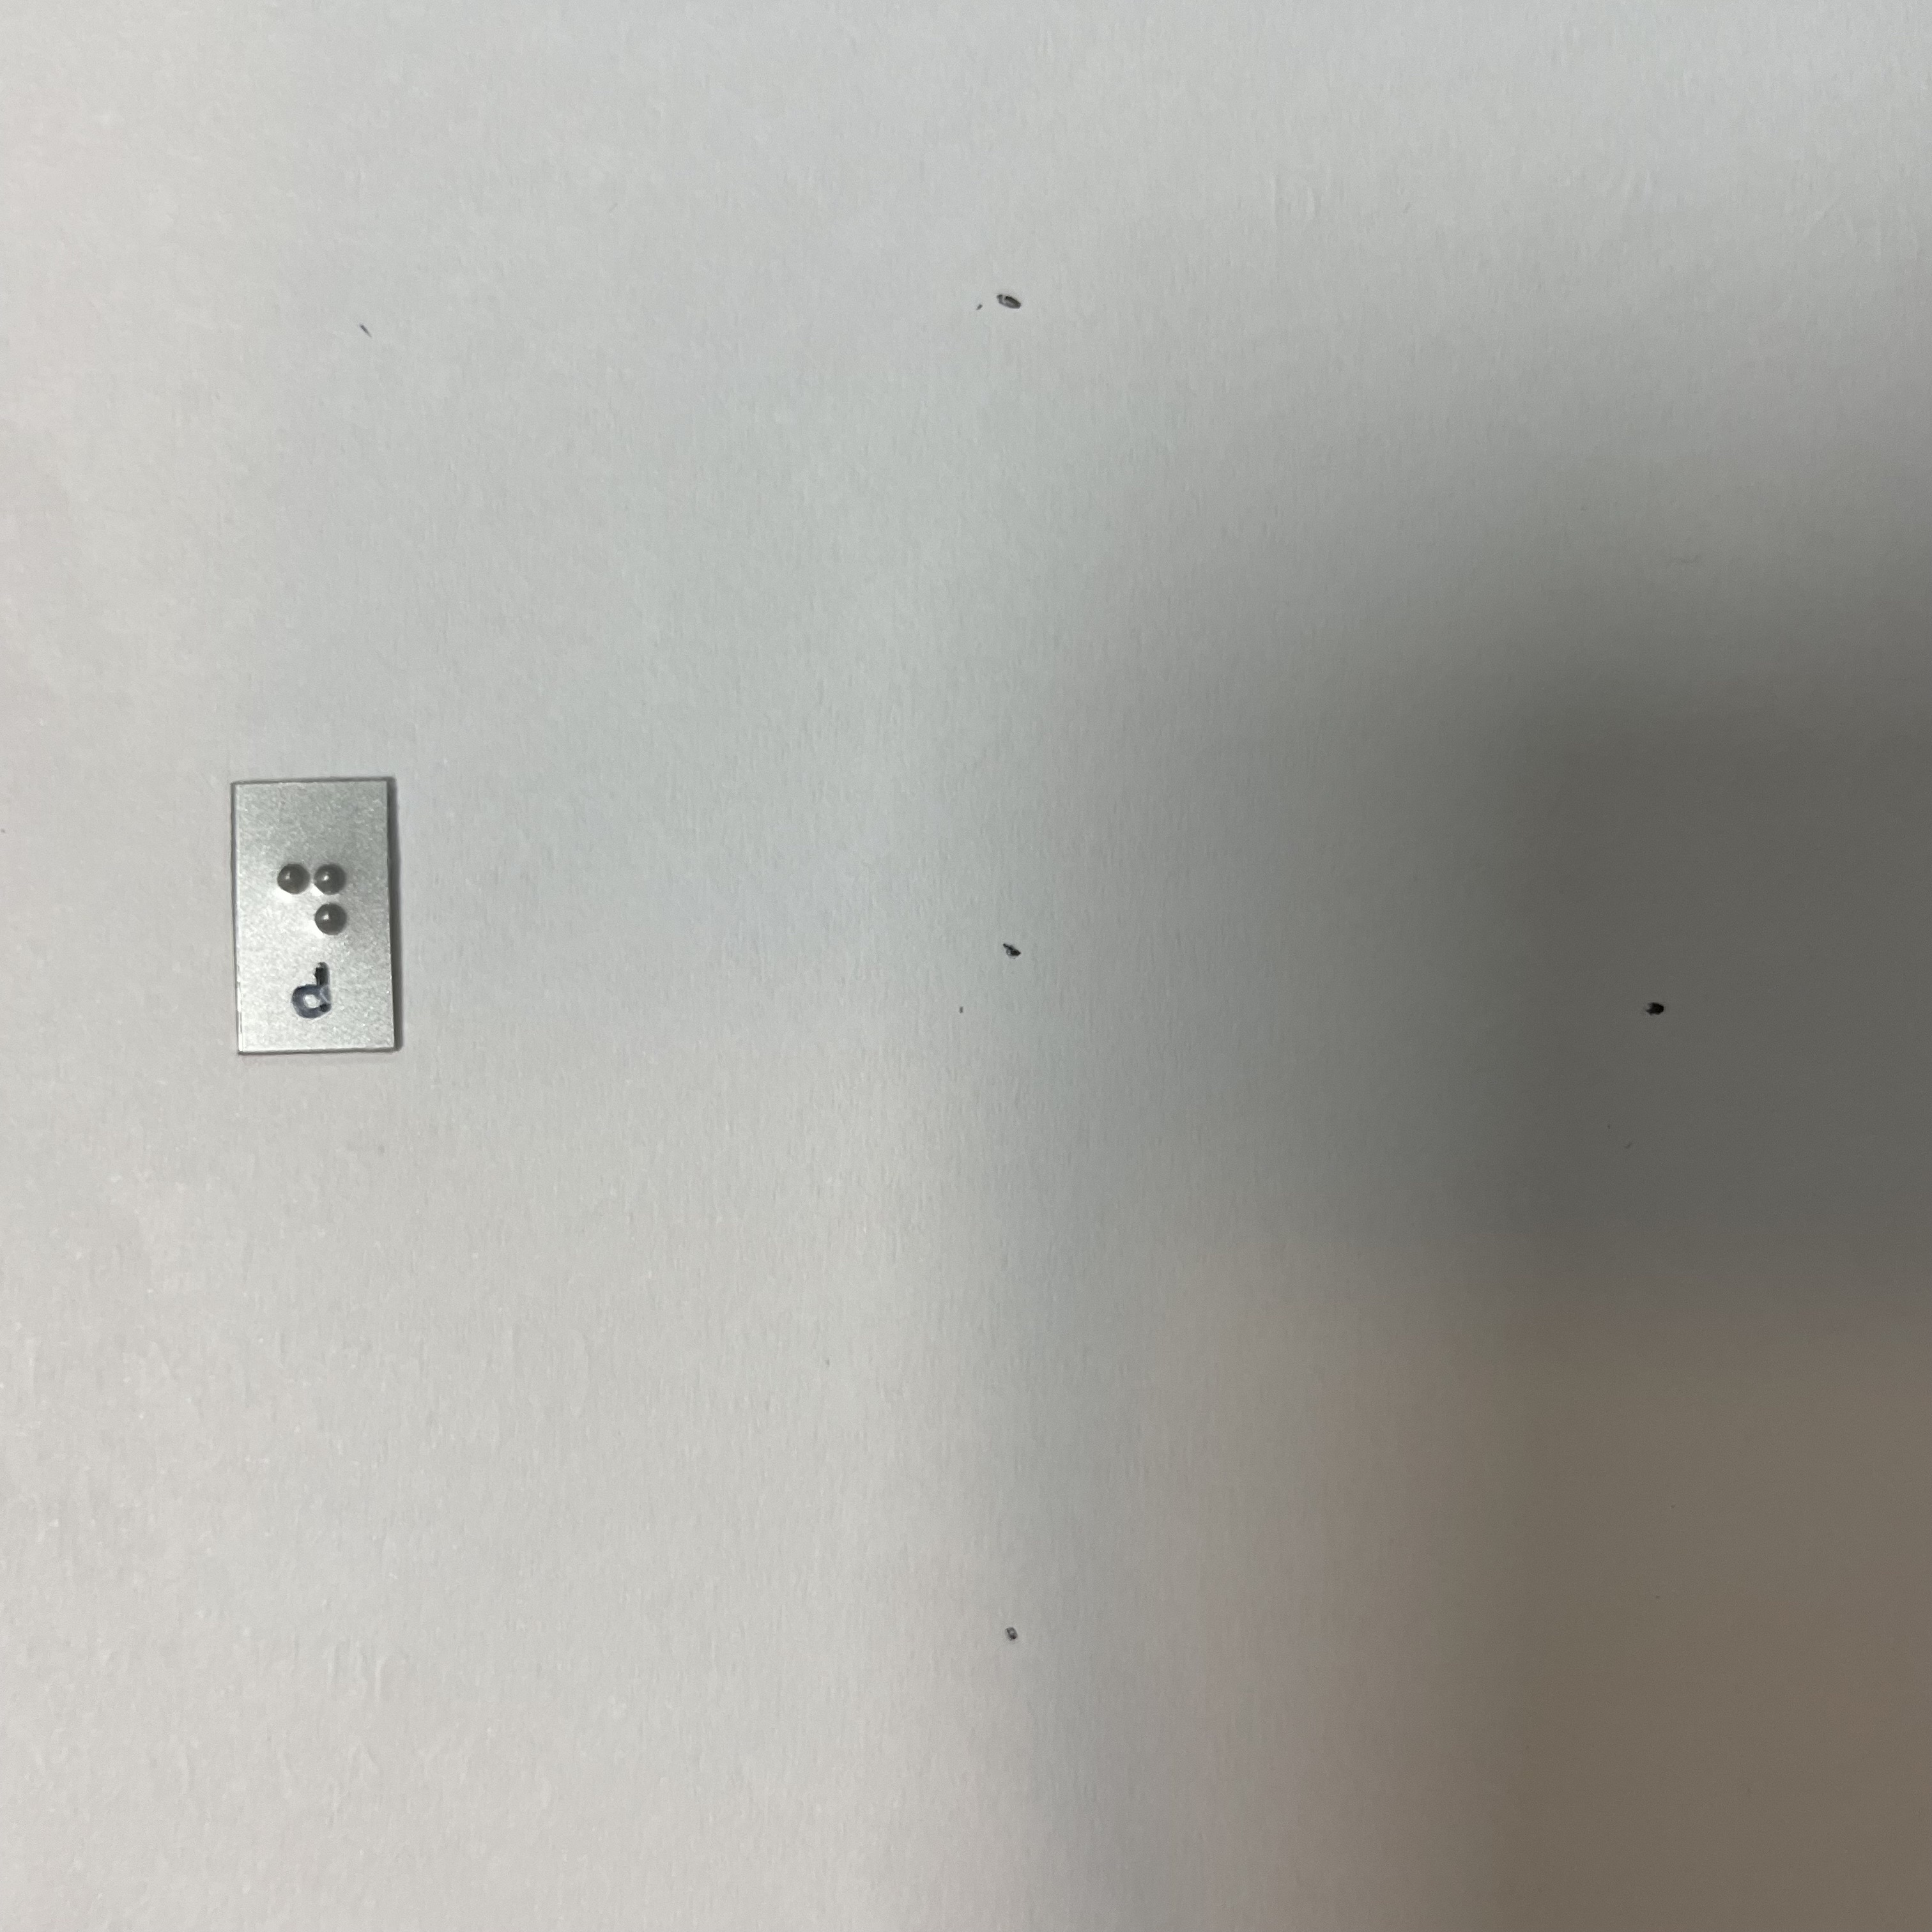d: (261, 845, 365, 977)
